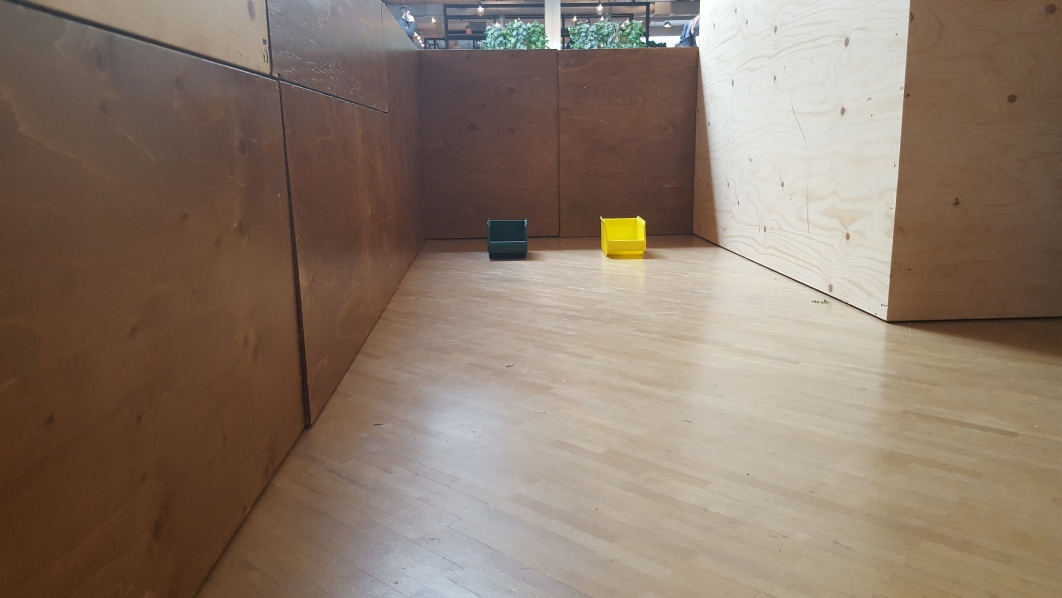tray: (593, 215, 653, 259), (485, 219, 535, 257)
